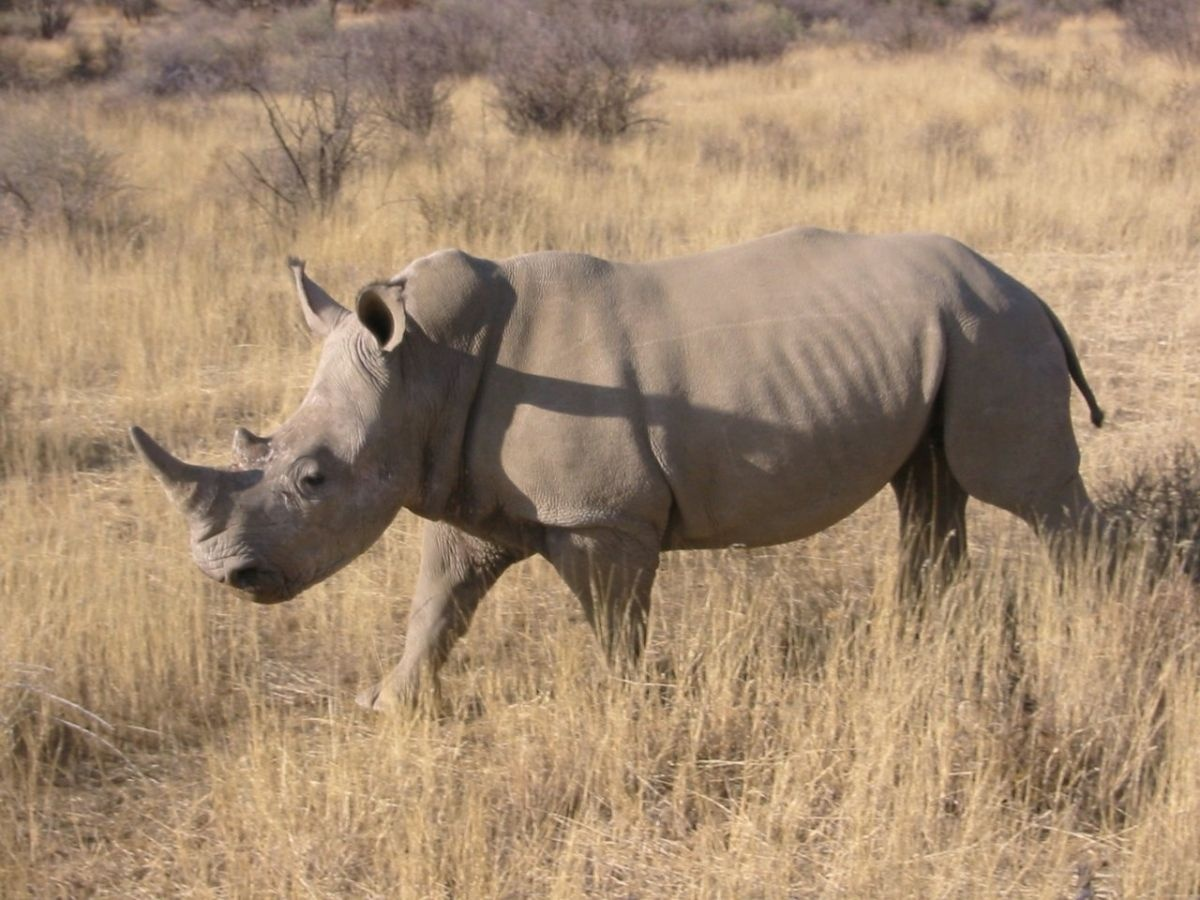rhino: (126, 217, 1123, 729)
